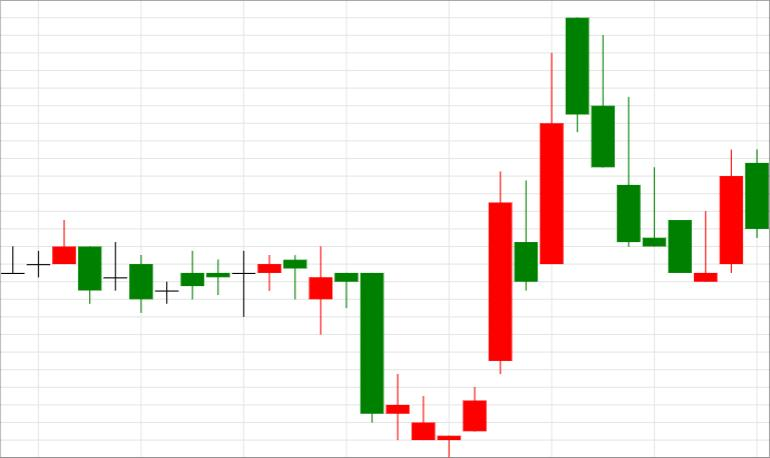three_black_crows_fall: (438, 17, 641, 457)
